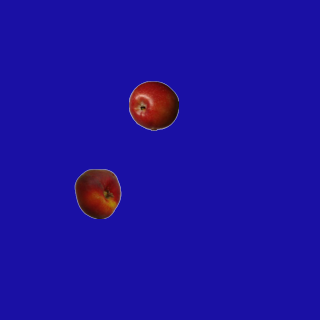Apple Braeburn: (128, 80, 178, 130)
Nectarine Flat: (72, 168, 122, 218)
